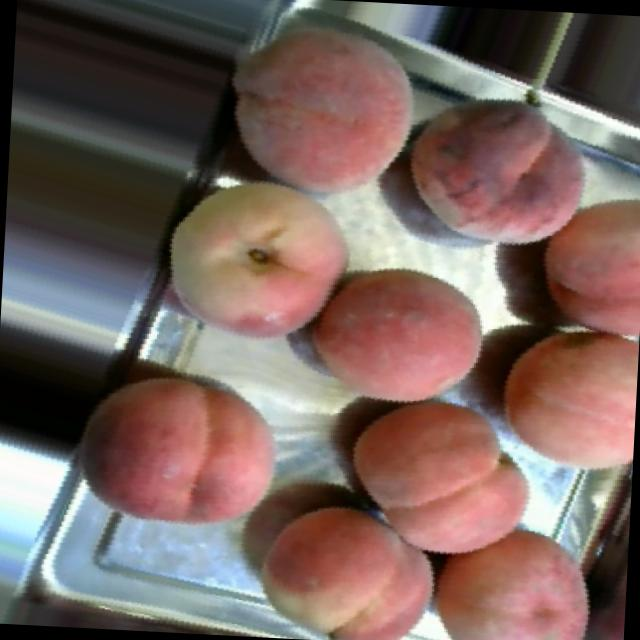Fruit: (204, 0, 449, 230), (139, 152, 382, 378), (58, 343, 304, 559), (379, 66, 609, 279), (323, 388, 554, 585), (282, 233, 507, 416), (230, 472, 456, 640), (410, 505, 619, 640), (476, 326, 640, 497), (508, 162, 640, 335)
